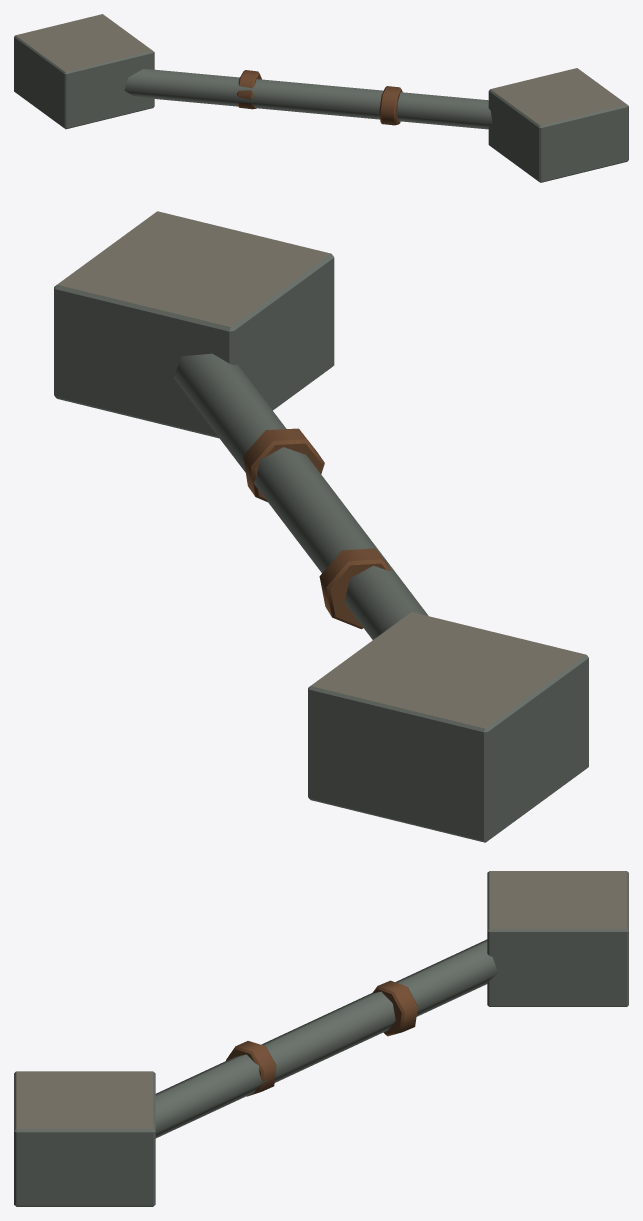
File: R4C_ROD_DIAG_2D_LONG_LOD1.fbx
The picture shows the model from 3 angles, top to bottom: view 1: azimuth 30°, elevation 25°; view 2: azimuth 150°, elevation 25°; view 3: azimuth 270°, elevation 25°; orthographic projection. The views are drawn at different scales.
Visible parts, largest first — view 1: R4C_ROD_DIAG_2D_LONG_LOD1; view 2: R4C_ROD_DIAG_2D_LONG_LOD1; view 3: R4C_ROD_DIAG_2D_LONG_LOD1.
Boxes of the visible parts, x1,y1,x2,y2 form: R4C_ROD_DIAG_2D_LONG_LOD1: [14, 14, 628, 182]; R4C_ROD_DIAG_2D_LONG_LOD1: [54, 211, 588, 842]; R4C_ROD_DIAG_2D_LONG_LOD1: [14, 871, 628, 1206].
Bounding box in the file's own units: 1.62 × 0.226 × 1.62.
